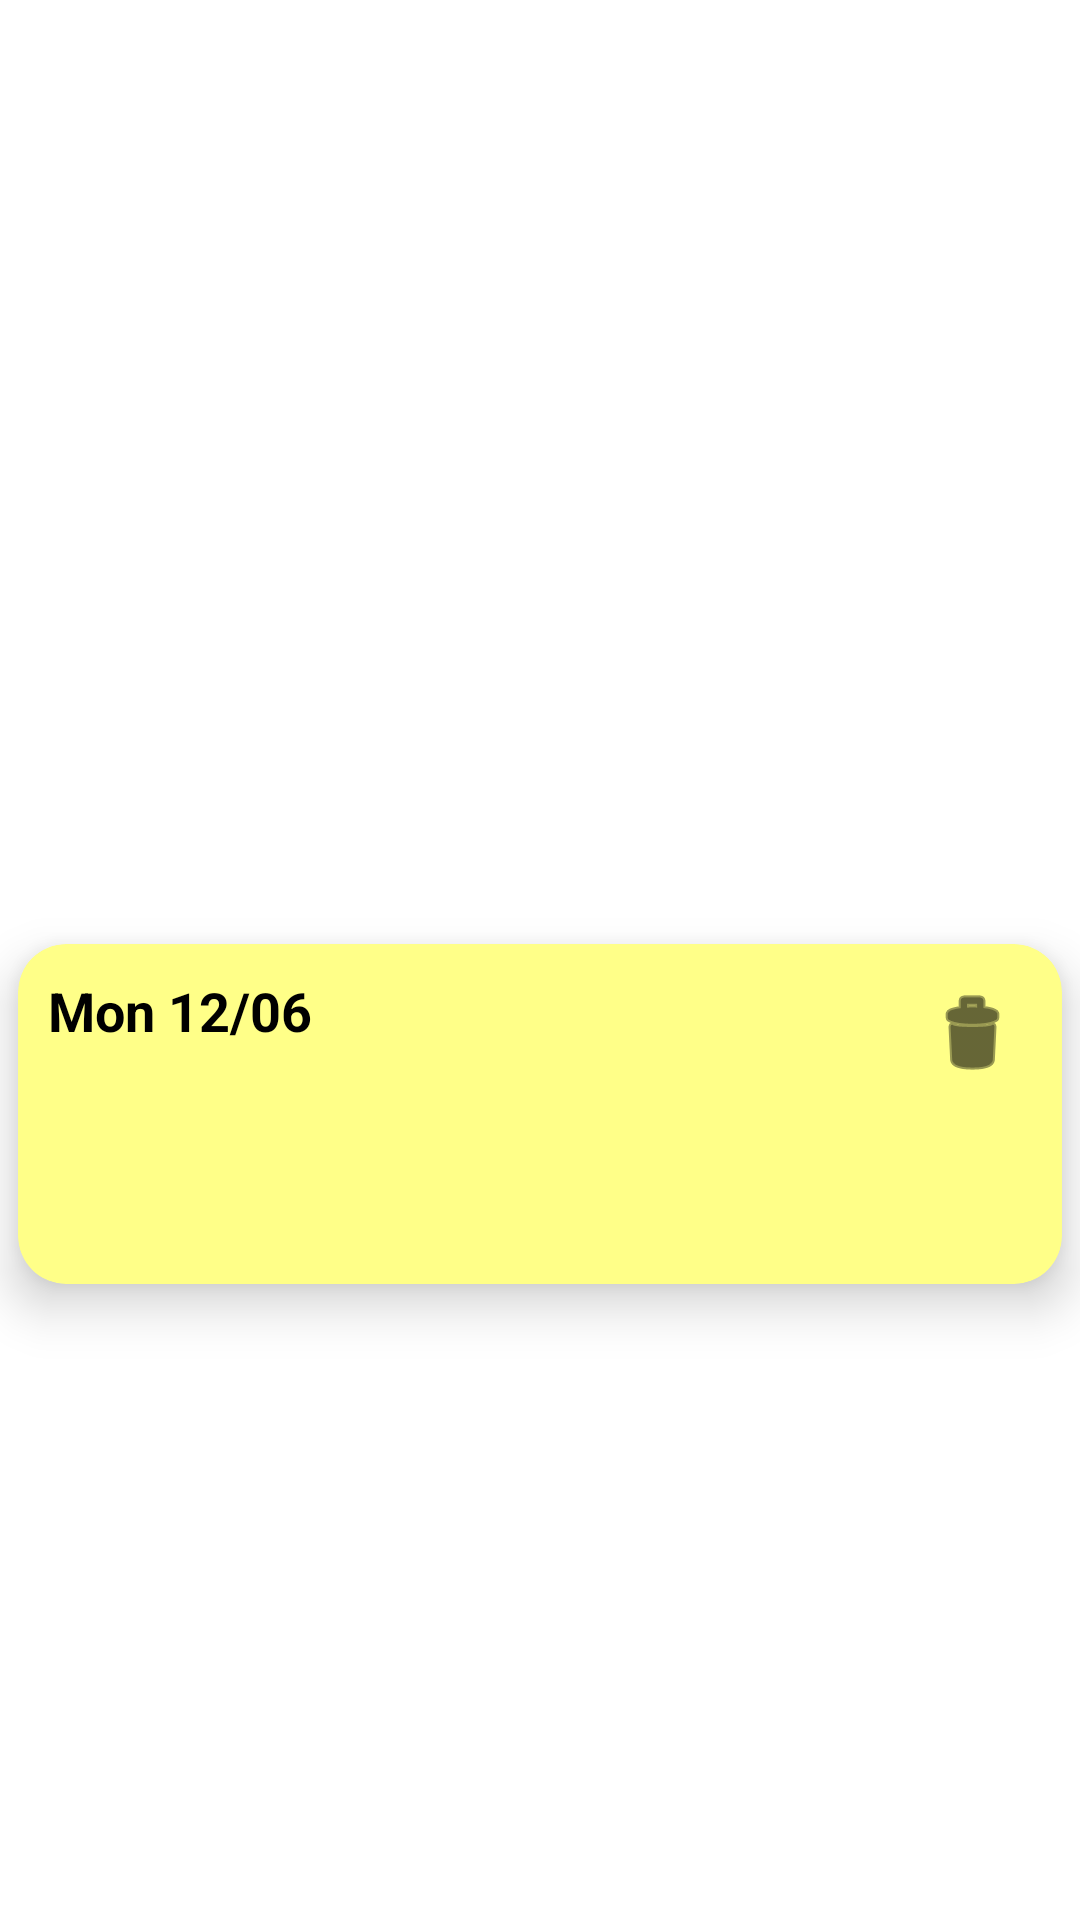

Icons on this 1080w x 1920h Android screen, each with the point to tap as (x,y):
delete: (972,1032)
